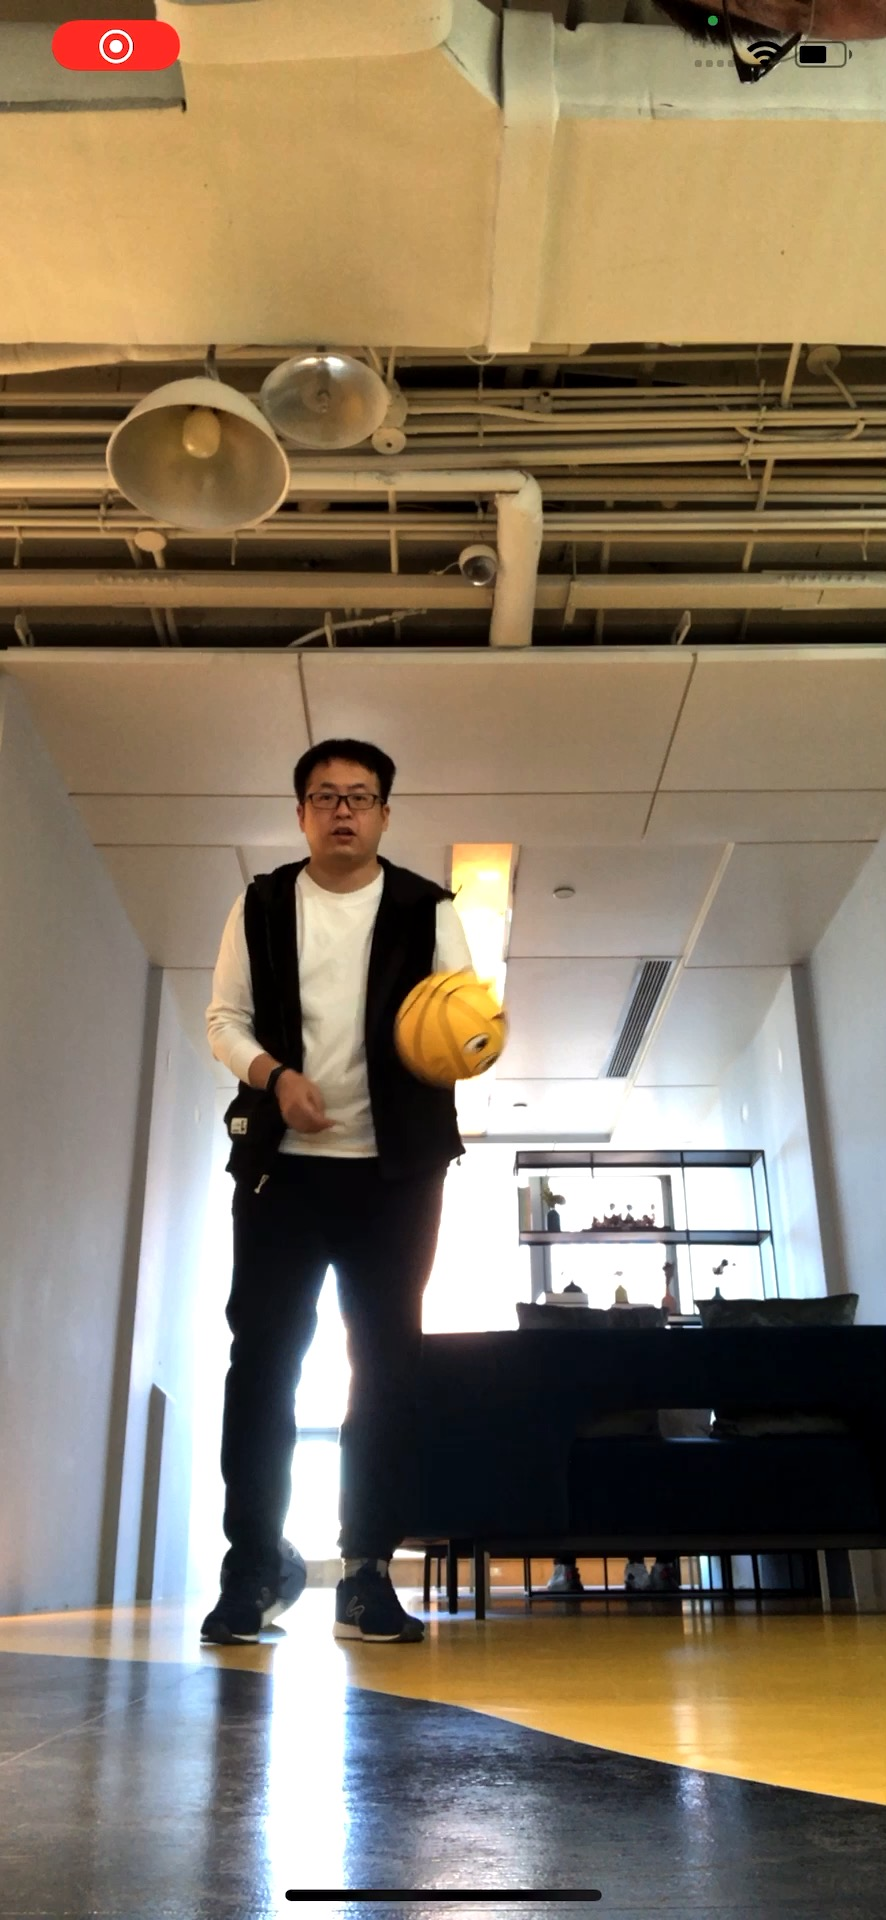ball: (396, 965, 512, 1086)
